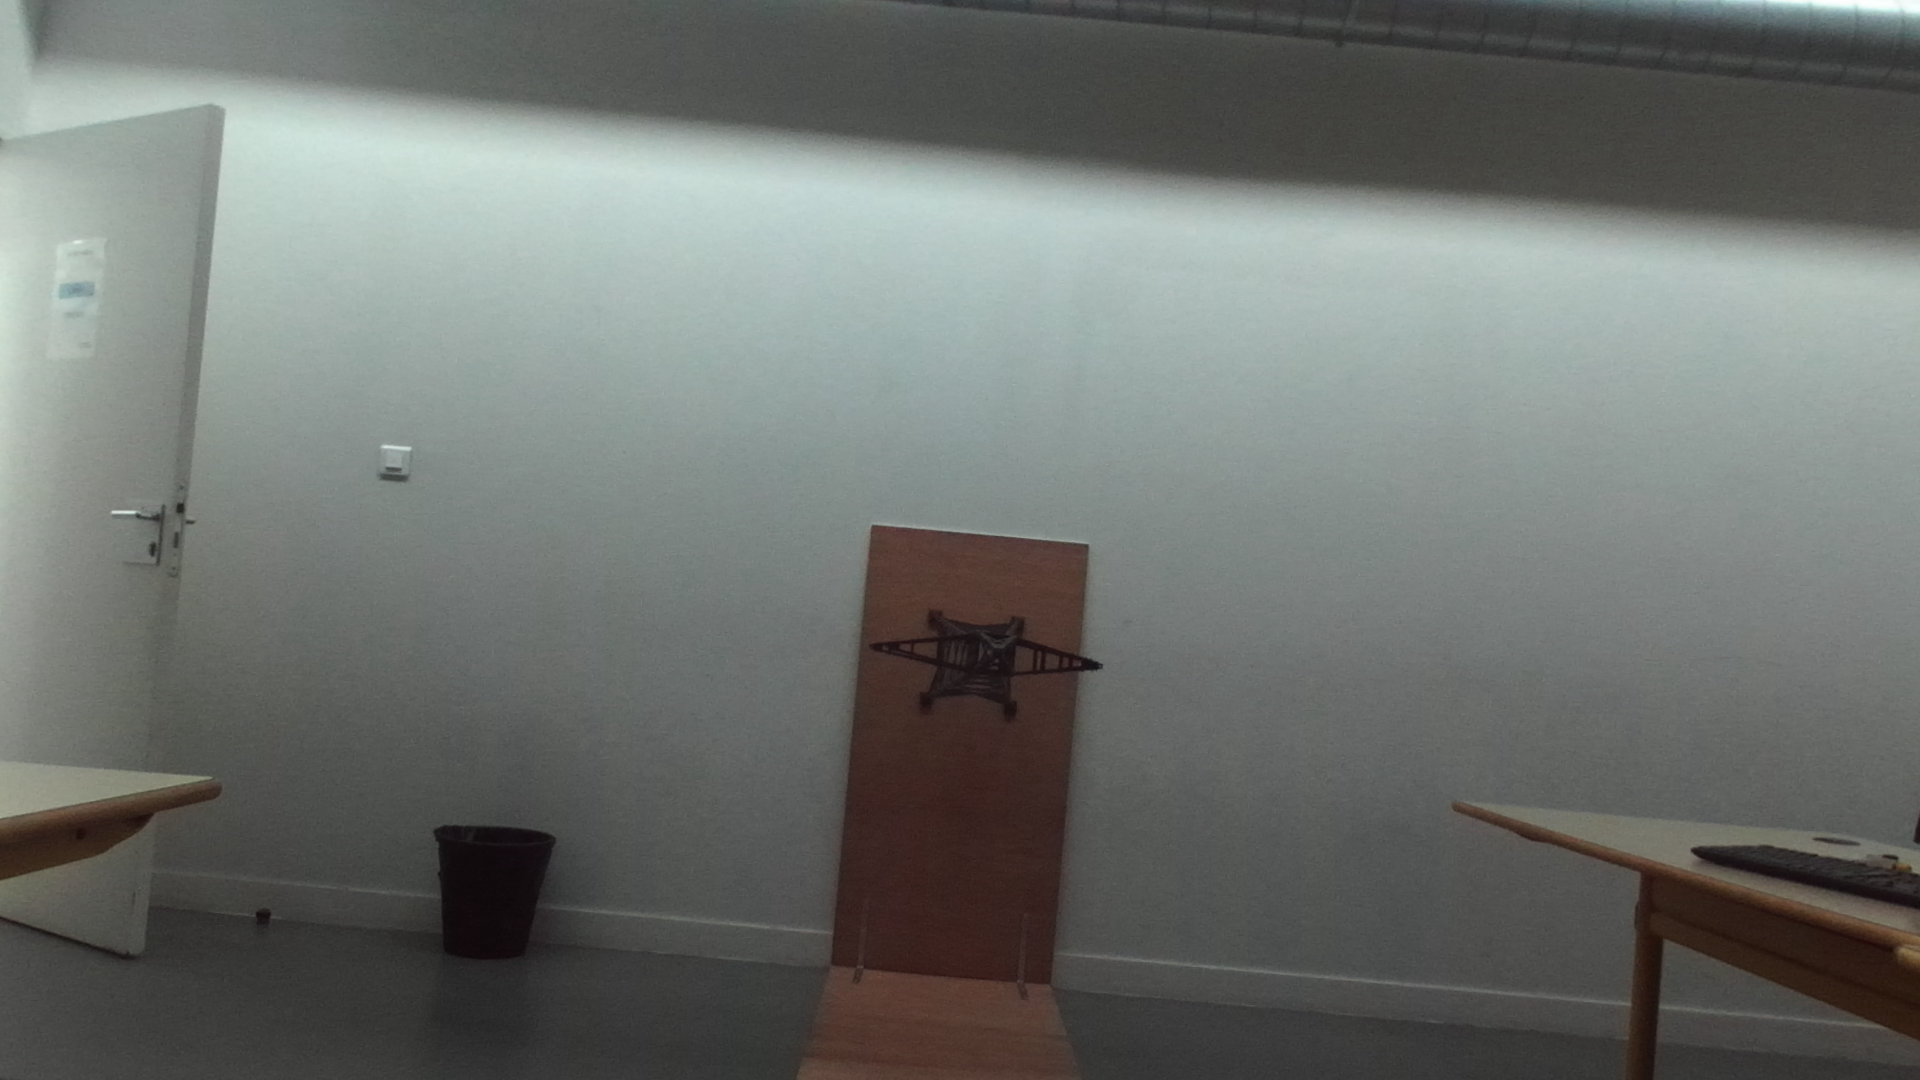pylon_phy: (882, 632, 1104, 682)
